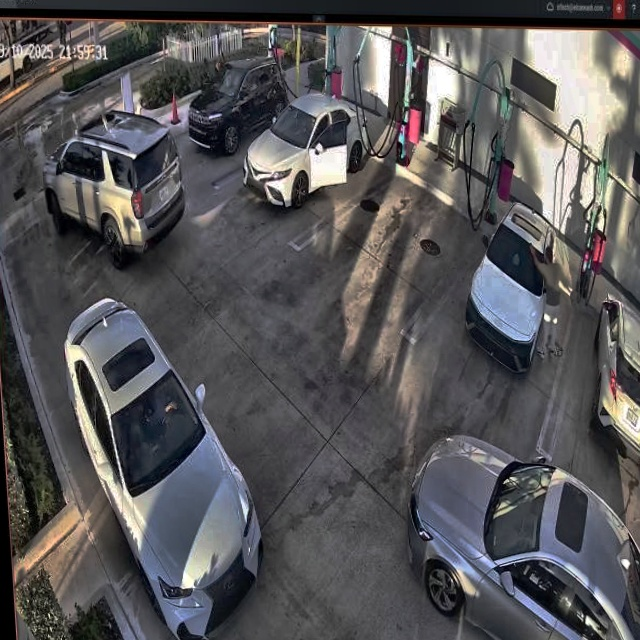Car: (62, 296, 269, 640), (409, 431, 640, 640), (39, 108, 189, 269), (466, 201, 556, 376), (242, 94, 370, 205), (184, 53, 289, 151)
